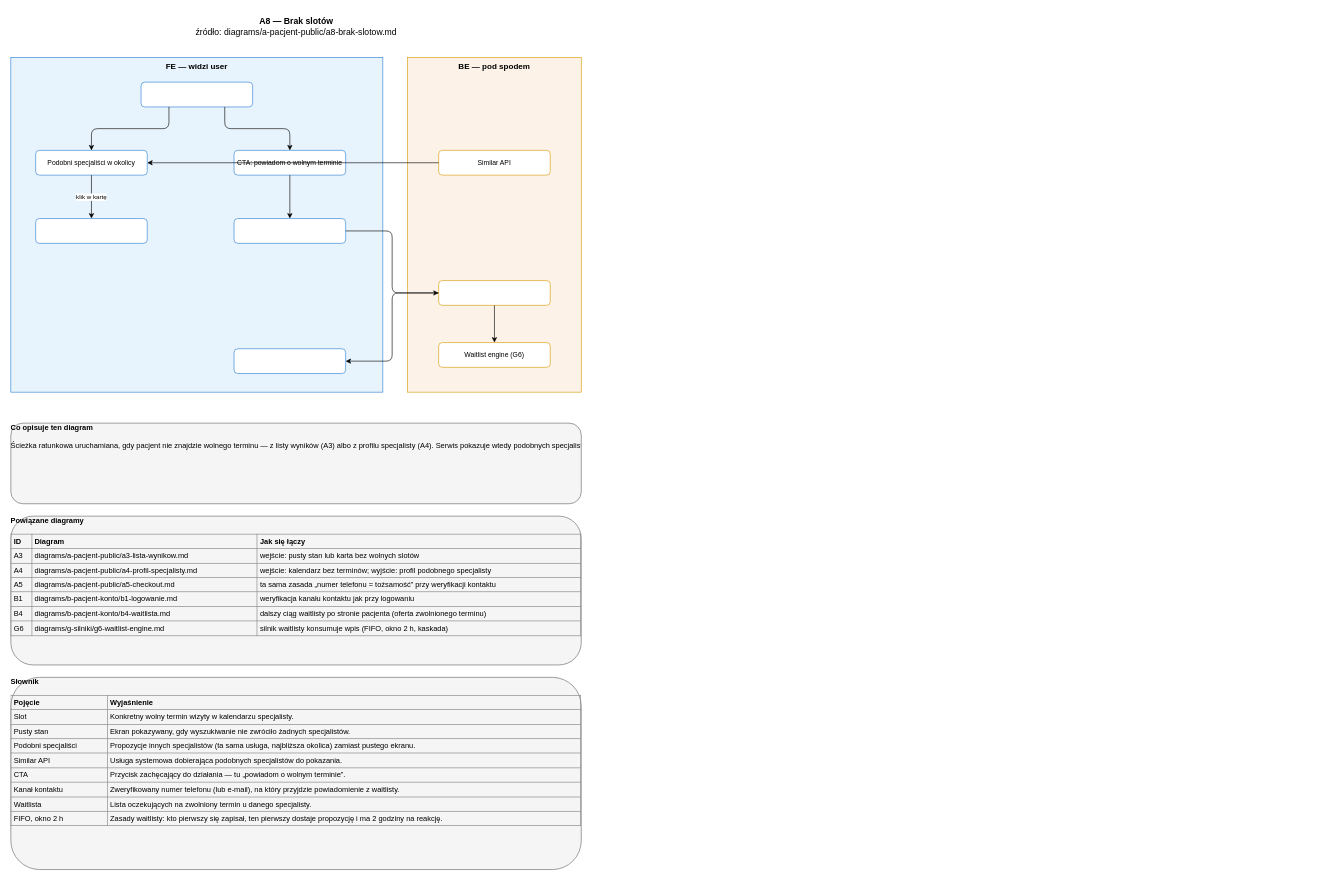
Some shapes in this 1329 by 880 pixel diagram are drawn without their labels. The shapes that lost their labels are listed below. From the top down, each one's centre as x and y in pixels, then its label:
(196,94): Brak slotów (z A3/A4)
(91,230): Profil podobnego (A4)
(289,230): Potwierdzenie kanału kontaktu
(494,292): Wpis do waitlisty
(289,361): Komunikat: zapisano na listę
